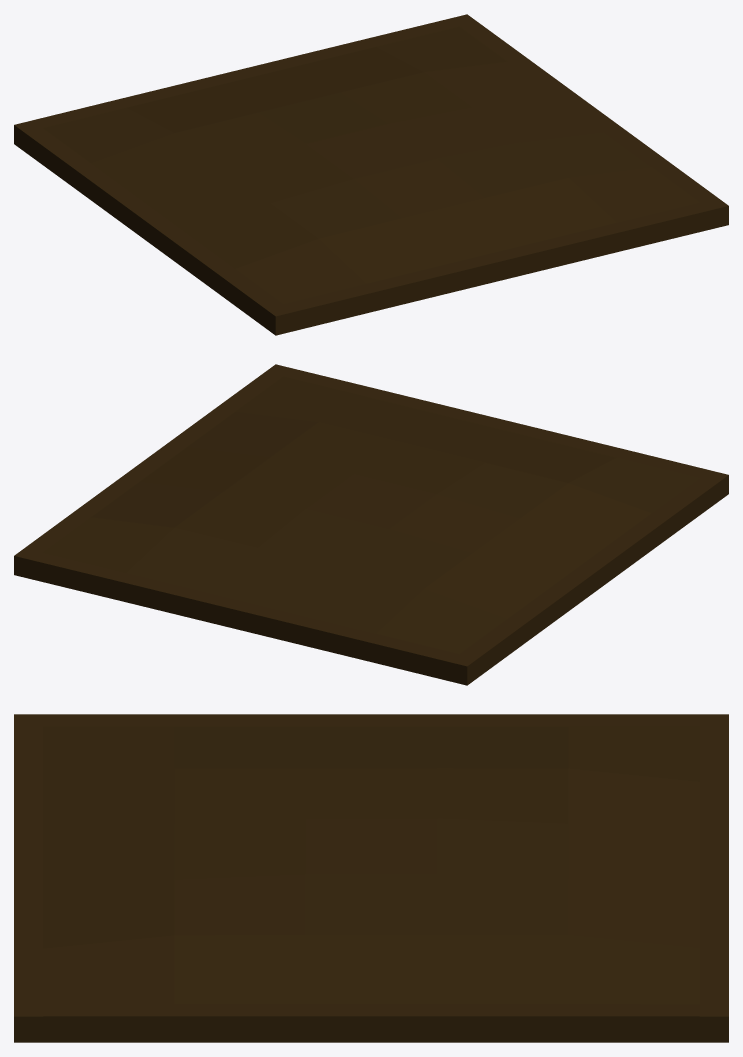
File: FarmPlot.fbx
The picture shows the model from 3 angles, top to bottom: view 1: azimuth 30°, elevation 25°; view 2: azimuth 150°, elevation 25°; view 3: azimuth 270°, elevation 25°; orthographic projection. The views are drawn at different scales.
Parts seen in each view (by area): view 1: FarmPlot; view 2: FarmPlot; view 3: FarmPlot.
Part boxes in pixels (x1,y1,x2,y2): FarmPlot: [14, 14, 728, 335]; FarmPlot: [14, 364, 728, 685]; FarmPlot: [14, 714, 728, 1042].
Size of the model in its own units: 4.2 by 0.2937 by 4.2.
